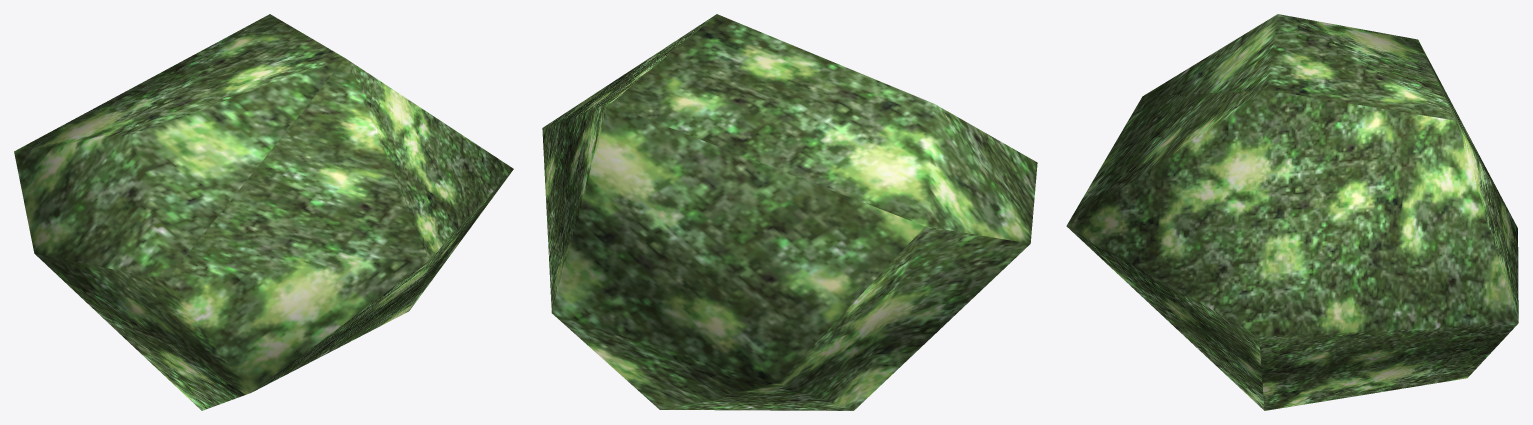
The model's file is asteroid_acid_radial_s03_l3.fbx.
3 views of the same model, side by side, from view 1: azimuth 30°, elevation 25°; view 2: azimuth 150°, elevation 25°; view 3: azimuth 270°, elevation 25° (orthographic). The views are drawn at different scales.
Visible parts, largest first — view 1: mesh_node; view 2: mesh_node; view 3: mesh_node.
Part boxes in pixels (x1,y1,x2,y2): mesh_node: (14, 14, 513, 410); mesh_node: (542, 14, 1037, 410); mesh_node: (1066, 14, 1518, 410).
Bounding box in the file's own units: 5.98 × 4.01 × 4.68.
1 material, 1 textured.
